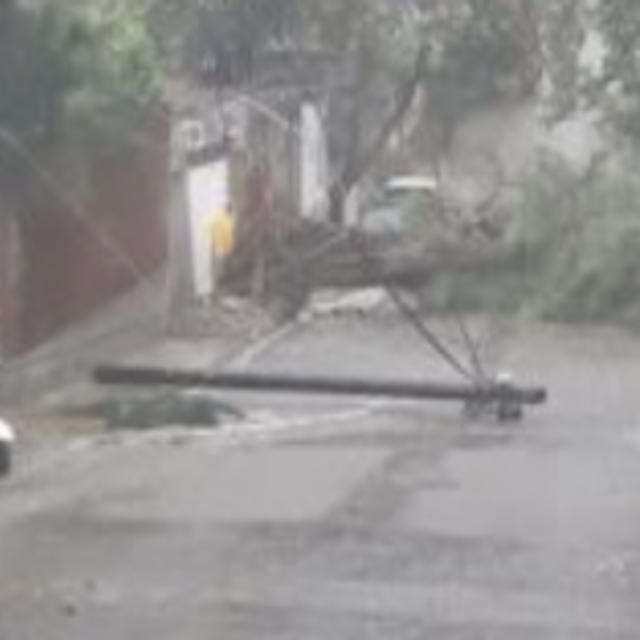Inclined Pole: (85, 336, 567, 428)
